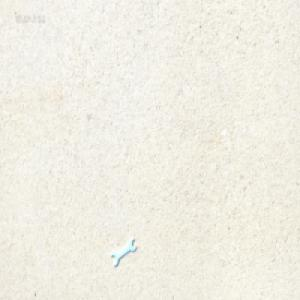Wrench: (111, 239, 136, 267)
